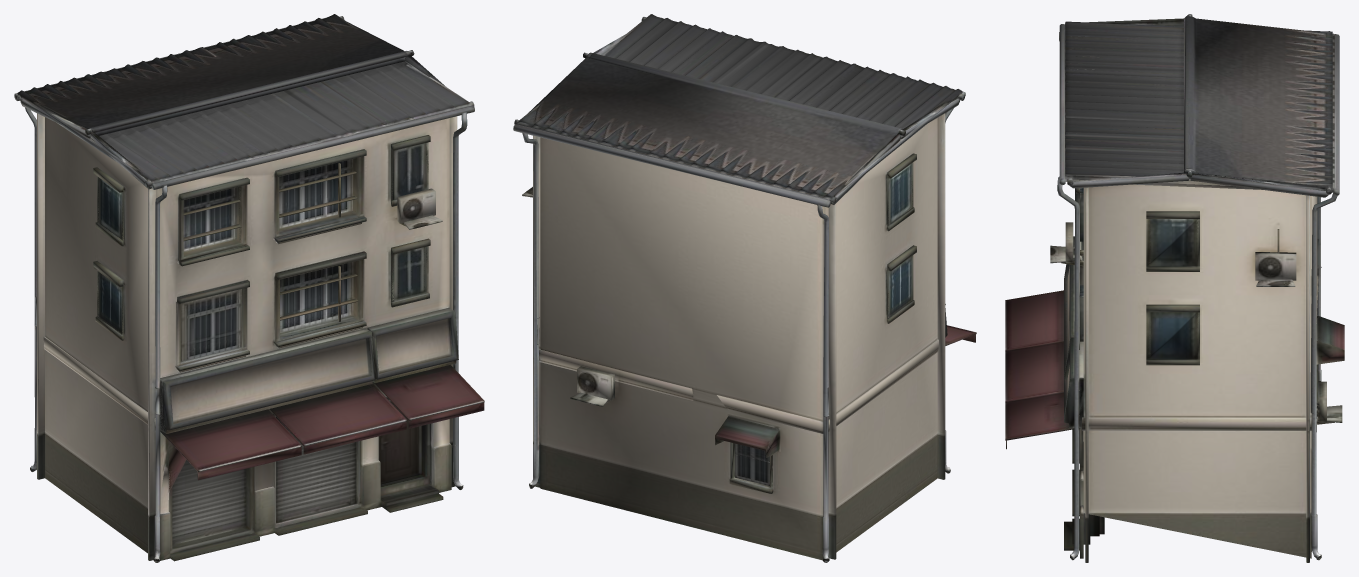
Rendered from facade-urban.glb.
3 views of the same model, side by side, from view 1: azimuth 30°, elevation 25°; view 2: azimuth 150°, elevation 25°; view 3: azimuth 270°, elevation 25° (orthographic).
Visible parts, largest first — view 1: tripo_node_eff168cd-78b7-4759-9b51-0144bab96e20; view 2: tripo_node_eff168cd-78b7-4759-9b51-0144bab96e20; view 3: tripo_node_eff168cd-78b7-4759-9b51-0144bab96e20.
Boxes of the visible parts, left/top/right/bottom form: tripo_node_eff168cd-78b7-4759-9b51-0144bab96e20: left=14, top=14, right=484, bottom=562; tripo_node_eff168cd-78b7-4759-9b51-0144bab96e20: left=513, top=14, right=976, bottom=562; tripo_node_eff168cd-78b7-4759-9b51-0144bab96e20: left=1005, top=14, right=1344, bottom=562.
Size of the model in its own units: 0.8887 by 0.998 by 0.7793.
Materials: 1 (1 with a texture image).
